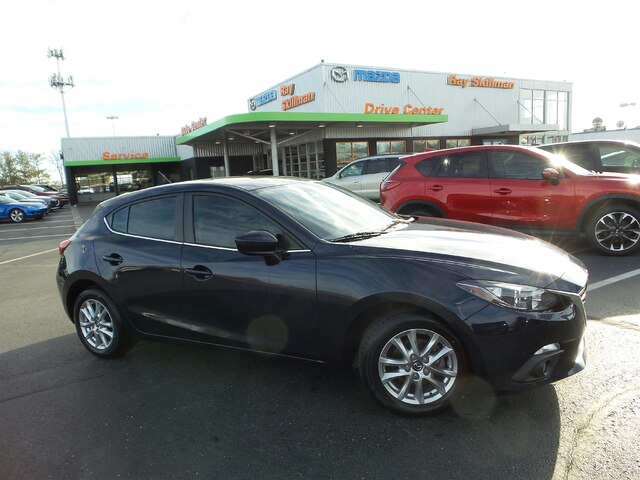Mazda3 Hatchback: (56, 175, 590, 417)
